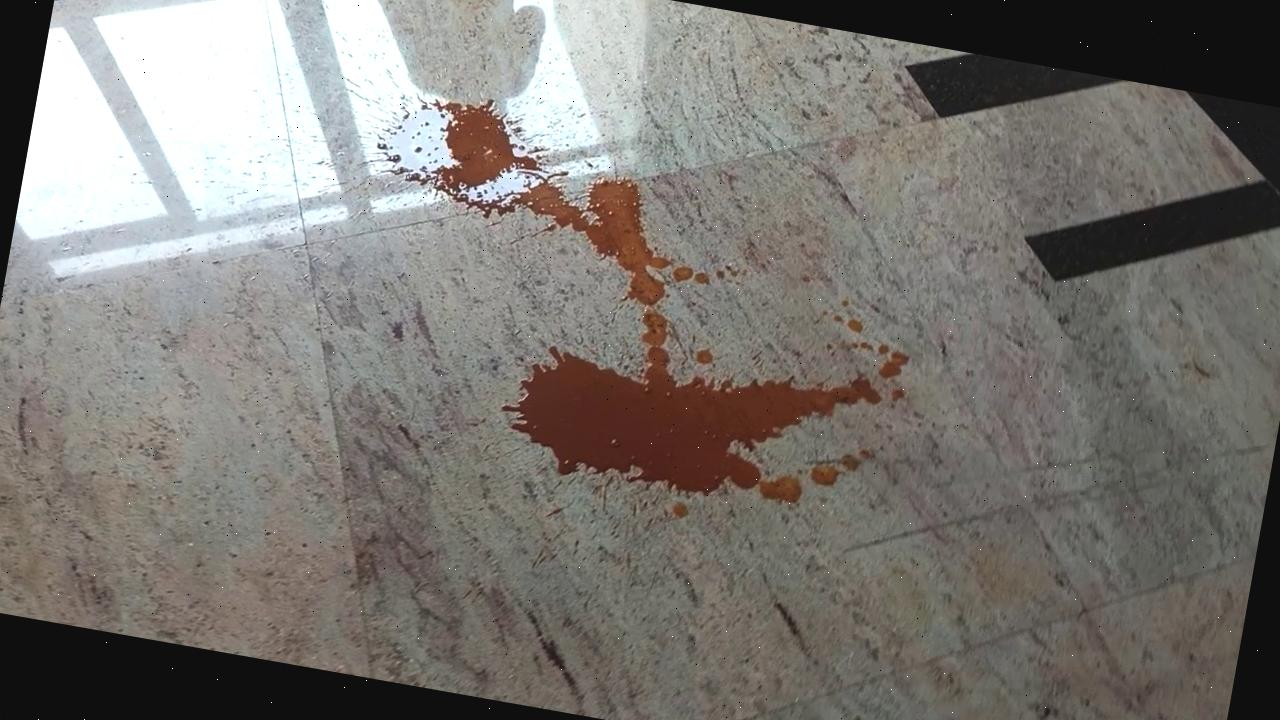dirty_floor: (310, 76, 938, 530)
